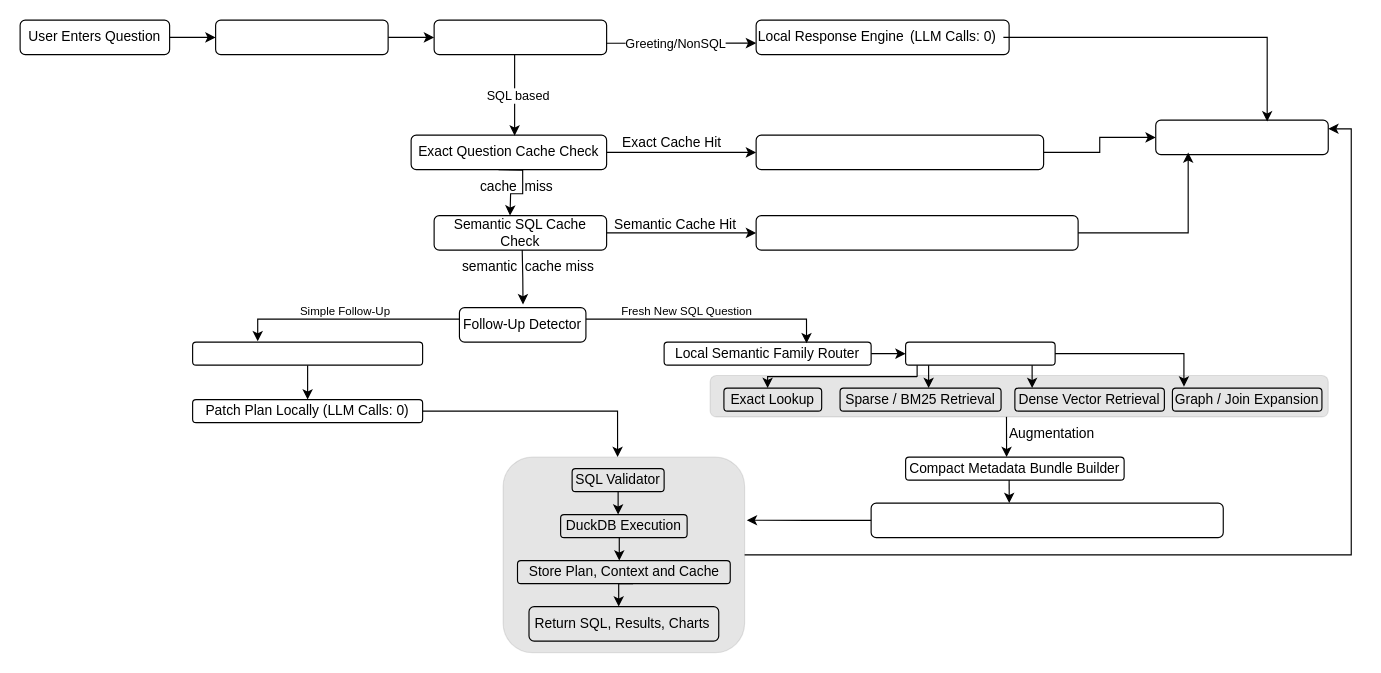
The diagram is 1381 pixels wide and 673 high, and some of its shapes have lost their labels. The shapes that lost their labels are listed below. From the top down, each one's centre as x and y in pixels, then its label:
At (x=301, y=37): "Text Normalization Layer".
At (x=520, y=37): "Intent and Route Detection".
At (x=899, y=152): "Return Cached SQL Response (LLM Calls: 0)".
At (x=1241, y=137): "Return Response to UI".
At (x=916, y=232): "Return Semantic Cached Response (LLM Calls: 0)".
At (x=307, y=353): "Load Previous Final Semantic Plan".
At (x=979, y=353): "Hybrid RAG Retriever".
At (x=1046, y=520): "Fresh SQL Understanding and Generation (LLM Call : 1)".
